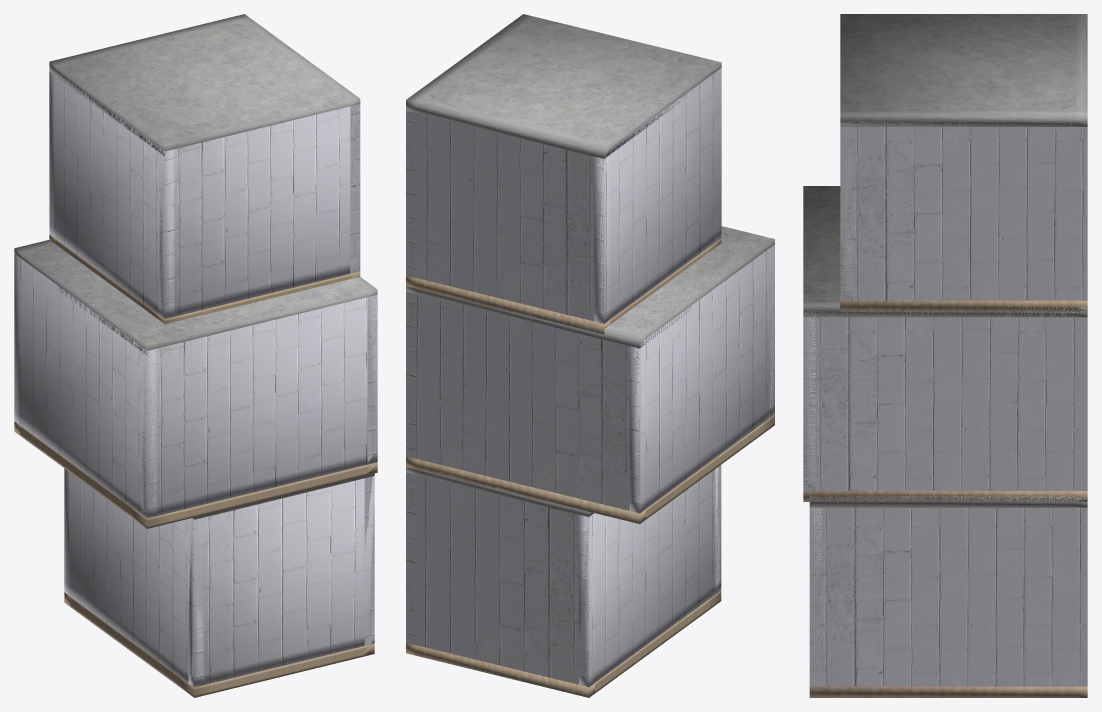
File: Level3.fbx
The picture shows the model from 3 angles, left to right: view 1: azimuth 30°, elevation 25°; view 2: azimuth 150°, elevation 25°; view 3: azimuth 270°, elevation 25°; orthographic projection. The views are drawn at different scales.
Parts seen in each view (by area): view 1: Cube.011, Cube.020, Cube.002, Cube.026, Cube.013, Cube.022, Cube.004, Cube.017, Cube.009, Cube, Cube.018, Cube.021 (+3 smaller); view 2: Cube.010, Cube.019, Cube.001, Cube.026, Cube.013, Cube.022, Cube.004, Cube.017, Cube.009, Cube, Cube.018, Cube.003 (+4 smaller); view 3: Cube.003, Cube.012, Cube.021, Cube.026, Cube.017, Cube, Cube.008, Cube.009, Cube.018, Cube.011, Cube.020.
Boxes of the visible parts, x1,y1,x2,y2 form: Cube.011: (141,295,377,515); Cube.020: (159,105,360,318); Cube.002: (188,476,374,687); Cube.026: (49,14,360,155); Cube.013: (14,254,157,518); Cube.022: (49,69,174,318); Cube.004: (64,468,204,685); Cube.017: (14,239,377,355); Cube.009: (14,421,377,528); Cube: (64,592,374,697); Cube.018: (49,234,360,324); Cube.021: (350,104,360,273); Cube.010: (416,294,639,512); Cube.019: (416,113,604,323); Cube.001: (416,475,588,684); Cube.026: (406,14,721,158); Cube.013: (629,244,774,513); Cube.022: (594,68,721,323); Cube.004: (579,465,721,687); Cube.017: (406,226,774,348); Cube.009: (406,415,774,523); Cube: (406,591,721,697); Cube.018: (406,238,721,334); Cube.003: (406,472,416,644); Cube.003: (809,507,1087,686); Cube.012: (803,311,1087,490); Cube.021: (840,121,1087,300); Cube.026: (840,14,1087,126); Cube.017: (803,186,1087,317); Cube: (809,686,1087,697); Cube.008: (809,496,1087,507); Cube.009: (803,491,1087,501); Cube.018: (840,300,1087,311); Cube.011: (803,311,815,490); Cube.020: (840,146,852,300).
Bounding box in the file's own units: 46 × 104 × 46.
